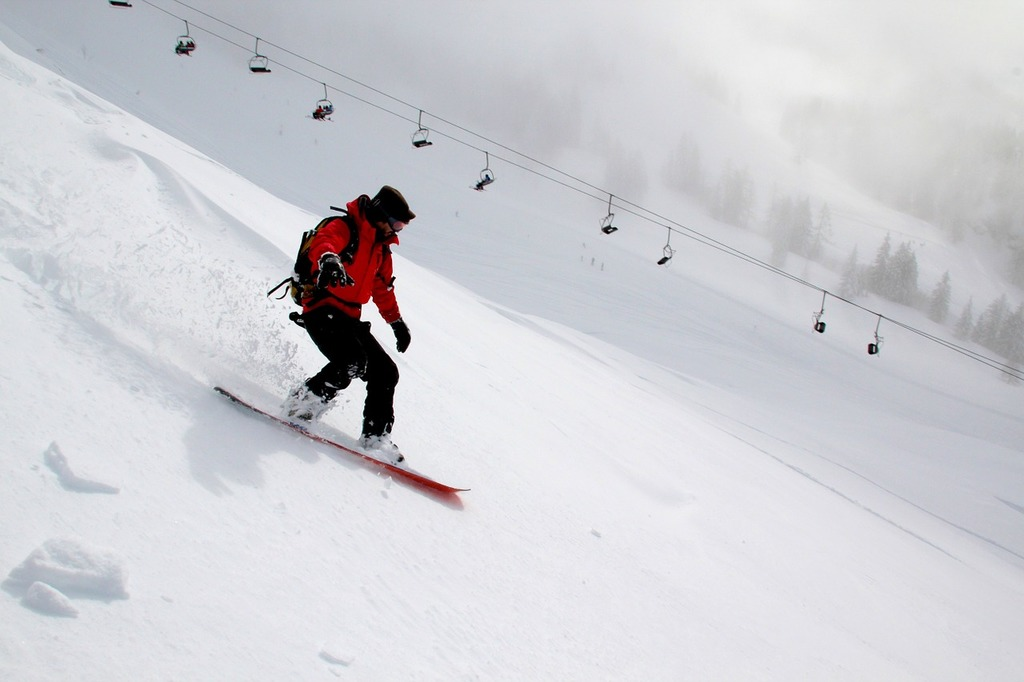snowboarder: (209, 182, 478, 507)
